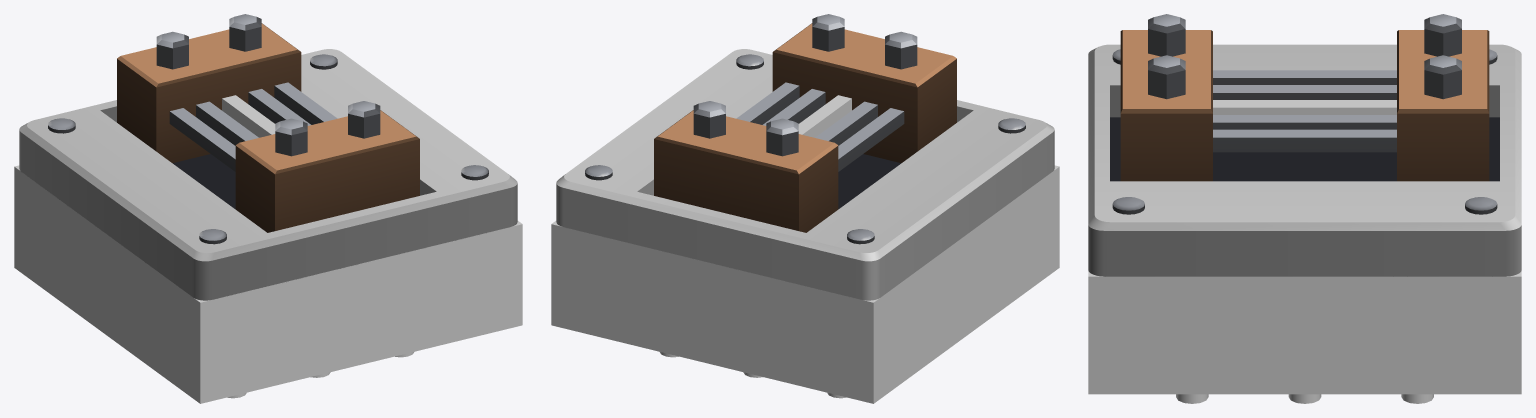
File: part_shunt.glb
The picture shows the model from 3 angles, left to right: view 1: azimuth 30°, elevation 25°; view 2: azimuth 150°, elevation 25°; view 3: azimuth 270°, elevation 25°; orthographic projection. The views are drawn at different scales.
Visible parts, largest first — view 1: Gehaeuse, Plattform, Korpus, Licht; view 2: Gehaeuse, Plattform, Korpus, Licht; view 3: Plattform, Gehaeuse, Korpus, Licht, Stecker.
Part boxes in pixels (<box>): Gehaeuse: <box>14,165,522,403</box>; Plattform: <box>19,49,517,300</box>; Korpus: <box>48,14,488,244</box>; Licht: <box>222,95,275,137</box>; Gehaeuse: <box>551,165,1059,403</box>; Plattform: <box>556,49,1054,300</box>; Korpus: <box>585,14,1025,244</box>; Licht: <box>798,95,851,137</box>; Plattform: <box>1088,44,1521,276</box>; Gehaeuse: <box>1088,271,1521,394</box>; Korpus: <box>1110,14,1499,214</box>; Licht: <box>1213,100,1396,114</box>; Stecker: <box>1176,394,1433,403</box>.
Size of the model in its own units: 0.8 by 0.628 by 0.8.
